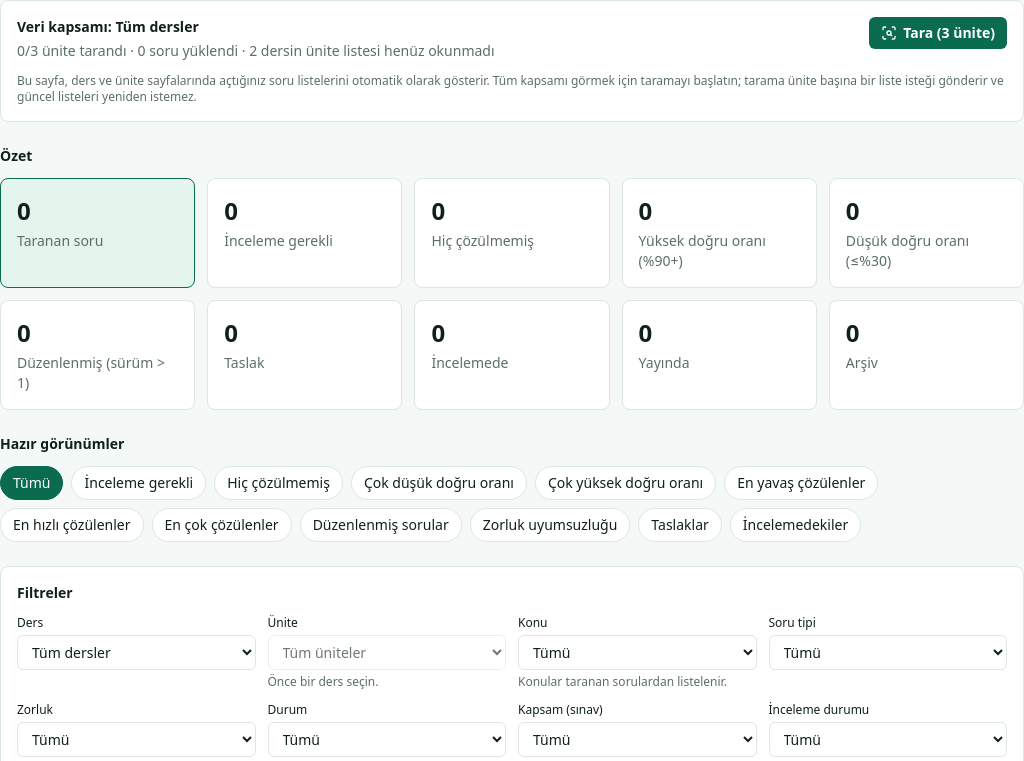
Test: QualityCenter scan › reads course → unit → unfiltered exercise lists, skipping empty units
Click the button "Tara (3 ünite)" at (938,33), box [869,17,1007,49]
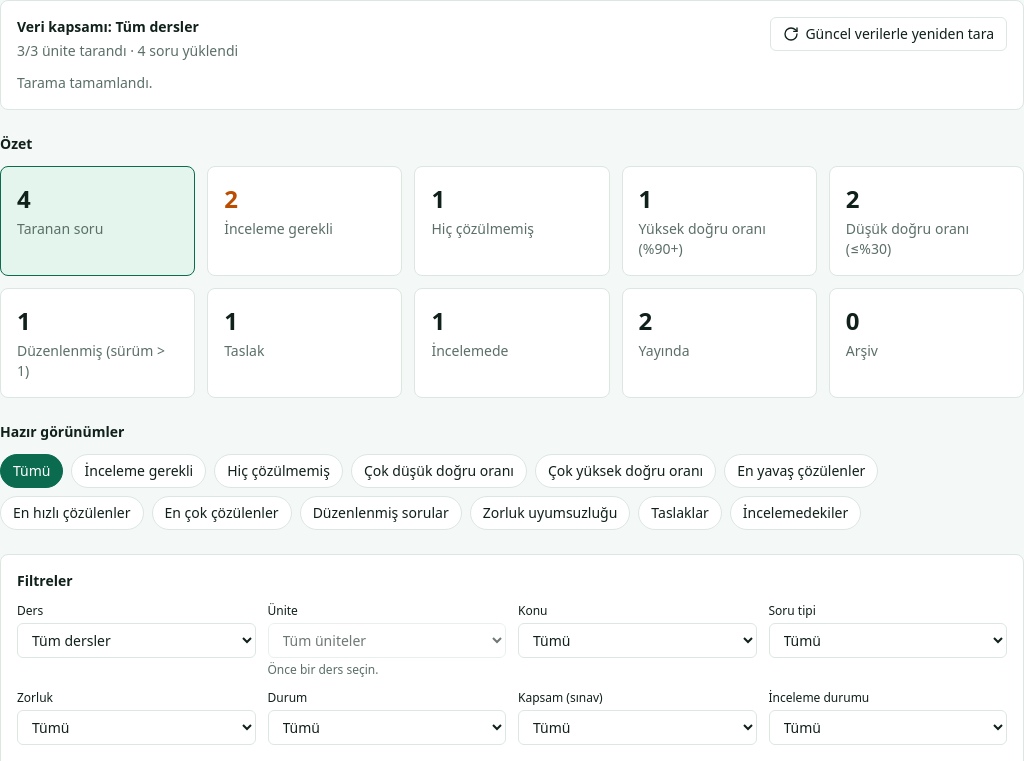
Now the text "Tarama tamamlandı." is shown, box [17,73,152,92]
Now the text "3/3 ünite tarandı · 4 soru yüklendi" is shown, box [17,41,238,61]
